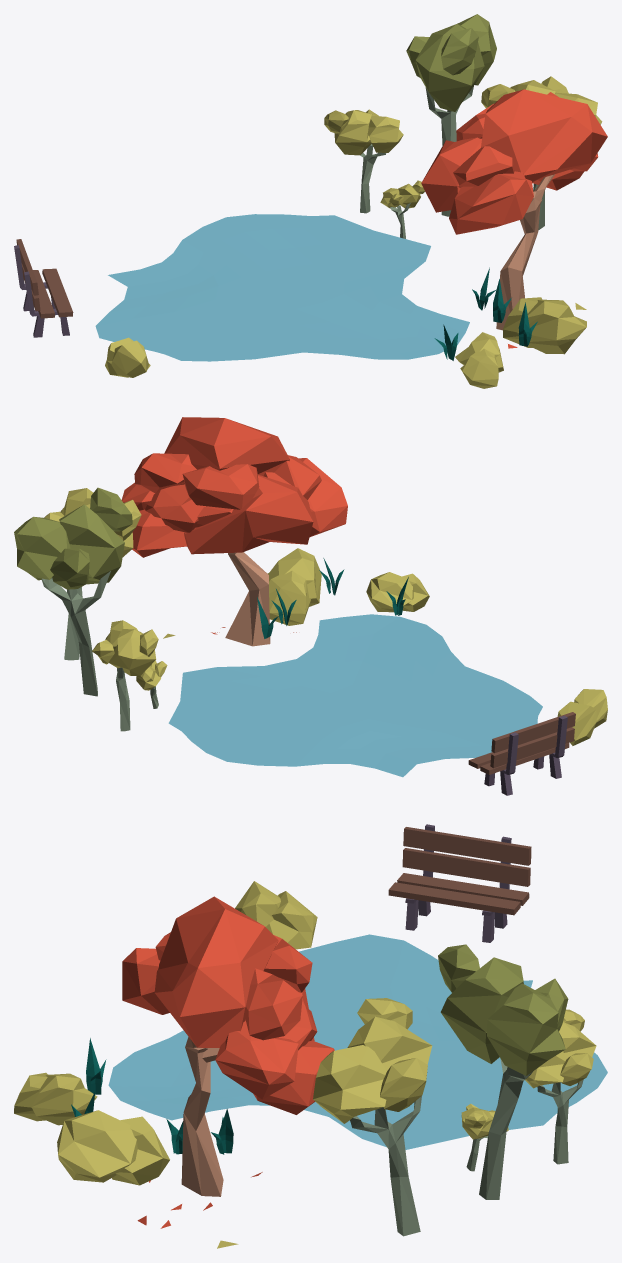
File: lake.fbx
3 renders of one model, top to bottom at view 1: azimuth 30°, elevation 25°; view 2: azimuth 150°, elevation 25°; view 3: azimuth 270°, elevation 25°, orthographic. The views are drawn at different scales.
Visible parts, largest first — view 1: Grid, red tree, minitrees.003, minitrees.001, bush.001, bench, bush.002, minitrees.002, bush; view 2: Grid, red tree, minitrees.003, bench, minitrees.001, bush.001, bush.002, minitrees.002, bush; view 3: red tree, Grid, minitrees.003, minitrees.002, bench, bush.001, minitrees.001, bush.002, bush, plant.006, plant.004.
Boxes of the visible parts, <box> form: Grid: <box>95,214,469,361</box>; red tree: <box>421,89,607,348</box>; minitrees.003: <box>406,14,496,216</box>; minitrees.001: <box>324,109,424,238</box>; bush.001: <box>503,297,586,354</box>; bench: <box>14,239,73,337</box>; bush.002: <box>455,332,503,388</box>; minitrees.002: <box>481,76,602,230</box>; bush: <box>105,337,150,377</box>; Grid: <box>168,614,542,777</box>; red tree: <box>121,417,347,646</box>; minitrees.003: <box>14,487,132,696</box>; bench: <box>468,712,575,795</box>; minitrees.001: <box>92,620,167,731</box>; bush.001: <box>267,548,321,625</box>; bush.002: <box>366,572,429,612</box>; minitrees.002: <box>44,488,141,660</box>; bush: <box>557,689,607,745</box>; red tree: <box>122,896,334,1248</box>; Grid: <box>108,934,607,1149</box>; minitrees.003: <box>438,944,568,1199</box>; minitrees.002: <box>313,998,432,1236</box>; bench: <box>388,824,531,942</box>; bush.001: <box>57,1110,169,1185</box>; minitrees.001: <box>461,1009,596,1171</box>; bush.002: <box>14,1072,97,1125</box>; bush: <box>235,881,317,949</box>; plant.006: <box>86,1038,106,1094</box>; plant.004: <box>211,1108,233,1154</box>.
Bounding box in the file's own units: 648 × 272 × 473.
